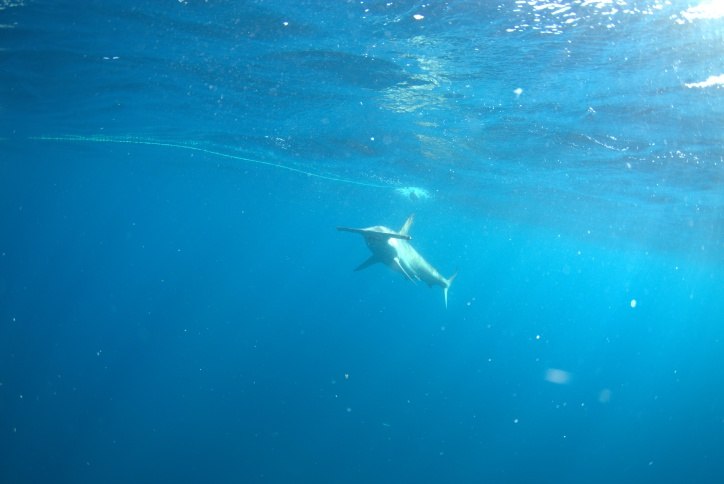Hammer: (326, 197, 467, 314)
